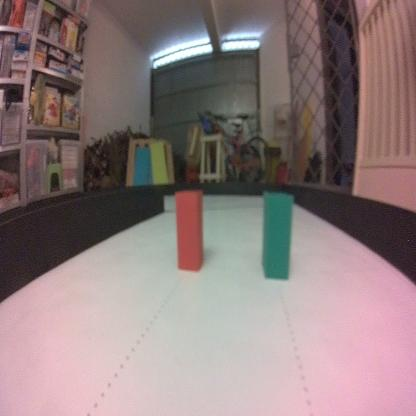green: (259, 191, 293, 281)
red: (174, 190, 204, 272)
